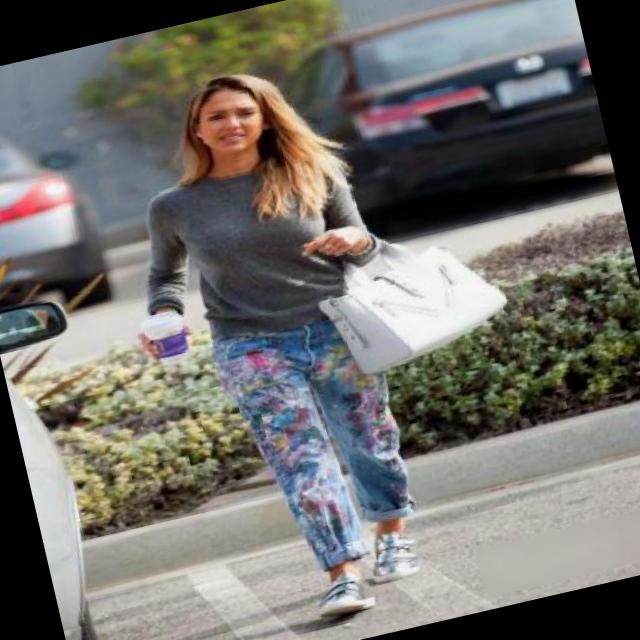Person: (38, 11, 555, 640)
